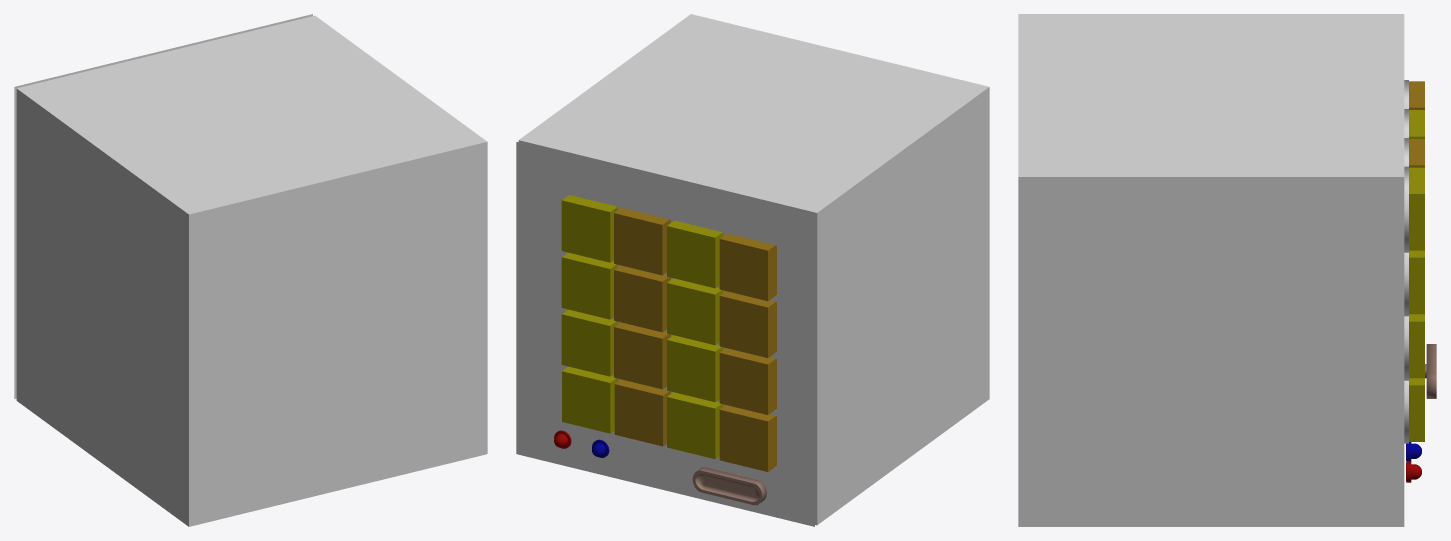
File: Pipe_Puzzle_Box_P1.FBX
3 views of the same model, side by side, from view 1: azimuth 30°, elevation 25°; view 2: azimuth 150°, elevation 25°; view 3: azimuth 270°, elevation 25° (orthographic). The views are drawn at different scales.
Visible parts, largest first — view 1: Box Size001, Puzzle Plane 002 low; view 2: Box Size001, Puzzle Plane 002 low, pipe button 16, pipe button 14, pipe button 15, pipe button 13, pipe button 08, pipe button 12, pipe button 04, pipe button 06, pipe button 02, pipe button 10 (+7 smaller); view 3: Box Size001, Puzzle Plane 002 low, pipe button 04, pipe button 02, pipe button 03, pipe button 01, SOLVE 001.
Boxes of the visible parts, x1,y1,x2,y2 form: Box Size001: (16, 15, 487, 526); Puzzle Plane 002 low: (14, 14, 312, 398); Box Size001: (518, 14, 989, 525); Puzzle Plane 002 low: (516, 142, 814, 526); pipe button 16: (719, 233, 776, 301); pipe button 14: (719, 348, 776, 414); pipe button 15: (719, 291, 776, 357); pipe button 13: (719, 405, 776, 471); pipe button 08: (614, 207, 670, 275); pipe button 12: (667, 220, 723, 288); pipe button 04: (561, 195, 618, 262); pipe button 06: (614, 322, 670, 389); pipe button 02: (561, 309, 618, 376); pipe button 10: (667, 335, 723, 402); Box Size001: (1018, 14, 1404, 526); Puzzle Plane 002 low: (1404, 80, 1408, 443); pipe button 04: (1409, 167, 1424, 250); pipe button 02: (1409, 314, 1424, 378); pipe button 03: (1409, 250, 1424, 314); pipe button 01: (1409, 378, 1424, 441); SOLVE 001: (1425, 344, 1436, 398).
Bounding box in the file's own units: 118 × 118 × 128.
